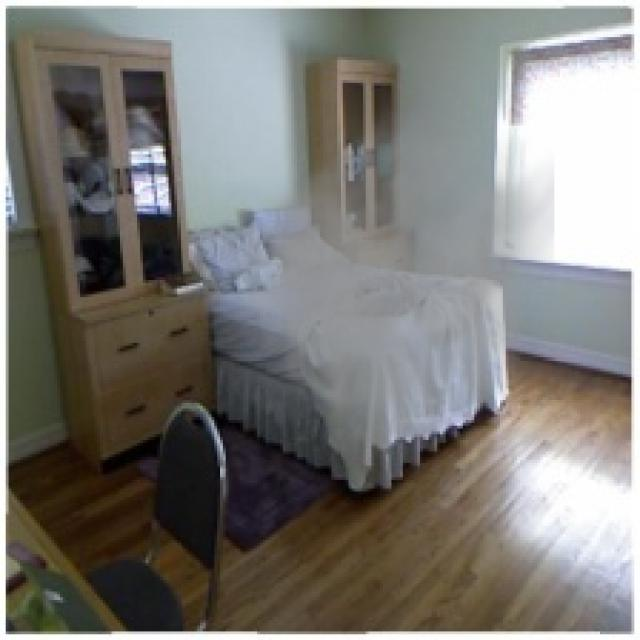smoke: (197, 91, 554, 468)
